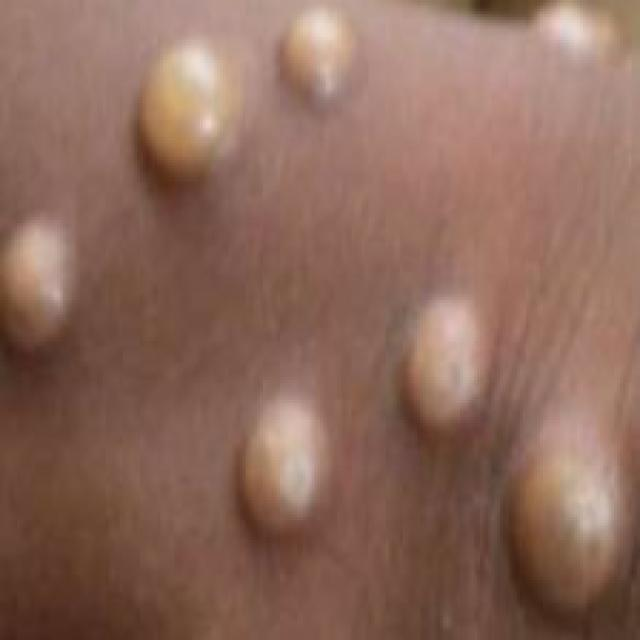Eczema: (35, 39, 629, 640)
